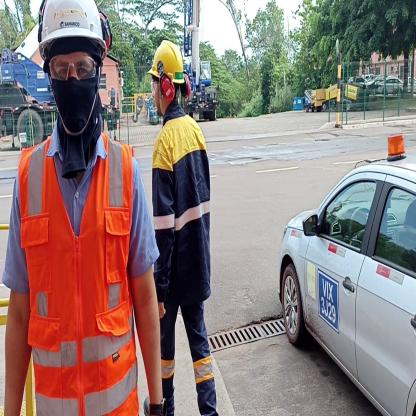Balaclava: (49, 47, 104, 155)
C_eletrica: (155, 119, 212, 302)
Capacete: (38, 0, 105, 41), (153, 36, 187, 82)
colete: (20, 142, 138, 415)
